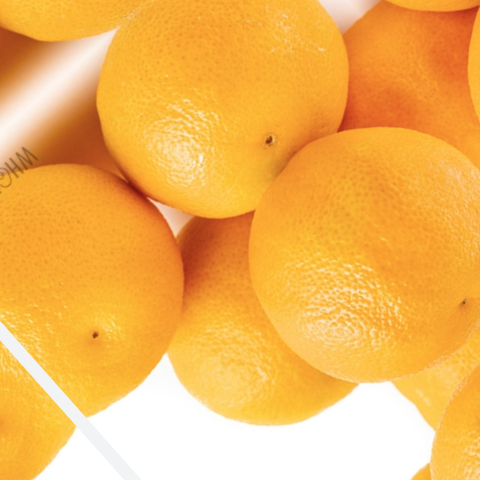orange: (22, 0, 412, 294), (183, 63, 480, 443), (0, 104, 267, 461)
